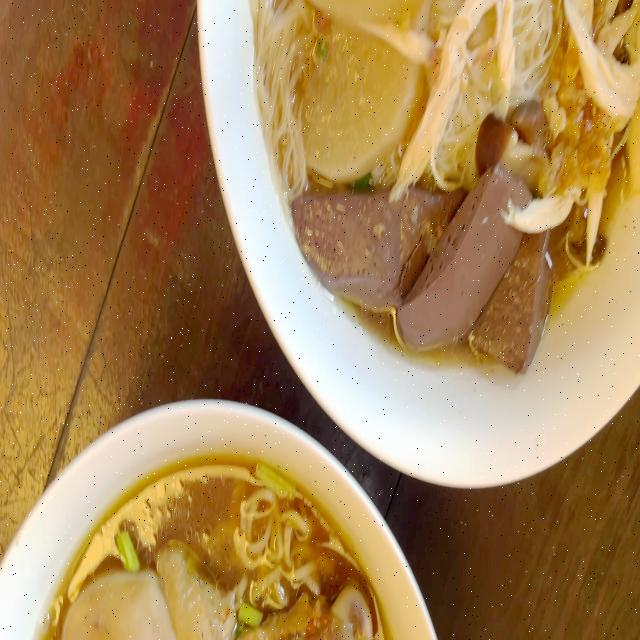boiled_chicken_blood_jelly: (302, 184, 545, 350)
chicken_drumstick: (61, 576, 376, 639)
chicken_shredded: (399, 0, 495, 189), (571, 0, 624, 235)
daikon_radish: (303, 26, 411, 169), (317, 0, 433, 44)
noodle: (243, 0, 640, 388), (40, 432, 387, 640)
